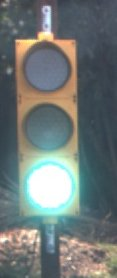Green: (9, 35, 82, 223)
